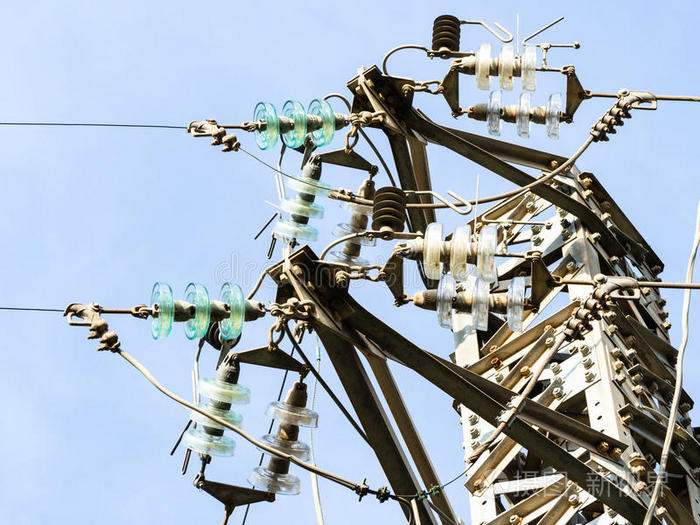insulator: (250, 398, 322, 495), (148, 282, 247, 343), (436, 275, 527, 334), (184, 377, 247, 457), (421, 222, 506, 279), (251, 100, 337, 149), (272, 172, 327, 245), (484, 91, 564, 140), (328, 193, 376, 268), (474, 44, 541, 88), (371, 184, 411, 233)
